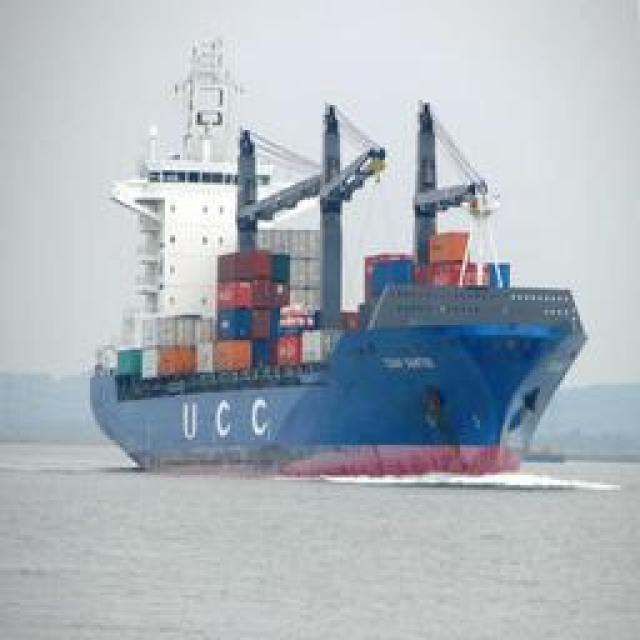CIV_Ship: (86, 51, 626, 466)
